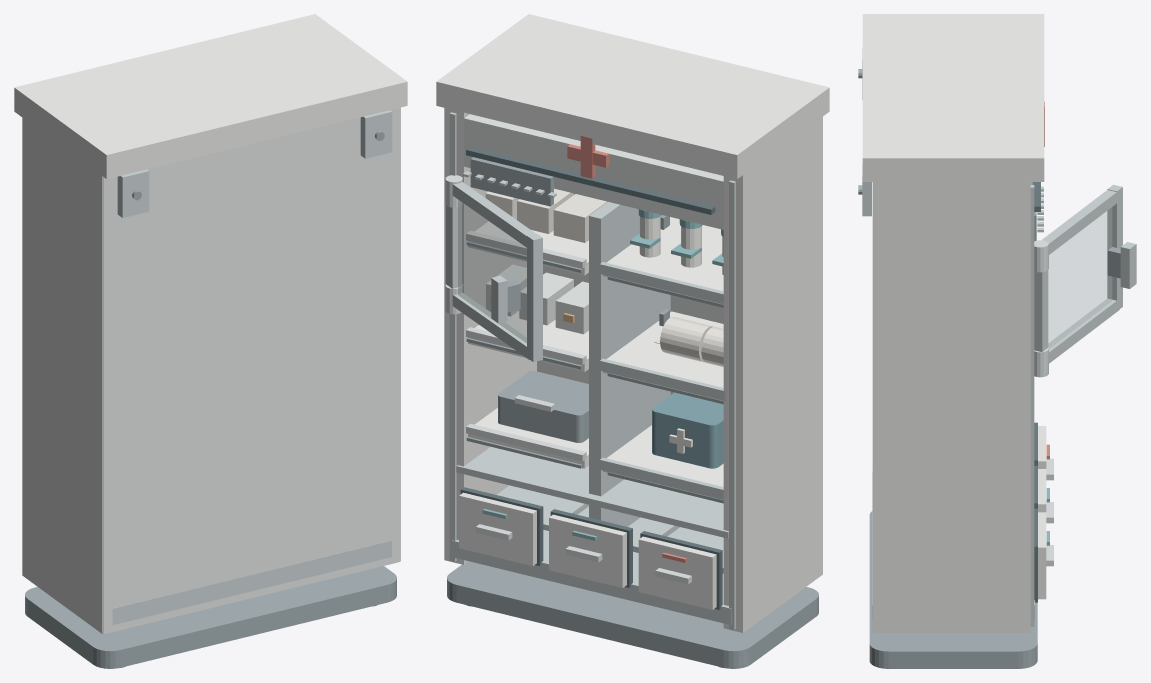
The model's file is medical_cabinet.glb.
The picture shows the model from 3 angles, left to right: view 1: azimuth 30°, elevation 25°; view 2: azimuth 150°, elevation 25°; view 3: azimuth 270°, elevation 25°; orthographic projection.
Visible parts, largest first — view 1: STATIC_cabinet_ivory, STATIC_composite_white, STATIC_mechanical_grey, STATIC_light_aluminium; view 2: STATIC_composite_white, STATIC_light_aluminium, STATIC_mechanical_grey, STATIC_ceramic_white, STATIC_cabinet_ivory, hinged_medical_door_light_aluminium, STATIC_medical_bandage, STATIC_polished_alloy, hinged_medical_door_translucent_glass, STATIC_rubber_gasket, STATIC_medical_deep, drawer_0_front (+4 smaller); view 3: STATIC_composite_white, STATIC_mechanical_grey, hinged_medical_door_light_aluminium, hinged_medical_door_translucent_glass, STATIC_light_aluminium, STATIC_polished_alloy, STATIC_rubber_gasket, STATIC_cabinet_ivory, drawer_2_front.
Part boxes in pixels (x1,y1,x2,y2): STATIC_cabinet_ivory: (103, 108, 400, 633); STATIC_composite_white: (14, 14, 407, 633); STATIC_mechanical_grey: (25, 131, 396, 668); STATIC_light_aluminium: (112, 110, 392, 624); STATIC_composite_white: (436, 14, 829, 632); STATIC_light_aluminium: (449, 112, 735, 629); STATIC_mechanical_grey: (447, 157, 818, 668); STATIC_ceramic_white: (468, 216, 723, 499); STATIC_cabinet_ivory: (464, 114, 723, 394); hinged_medical_door_light_aluminium: (446, 182, 542, 361); STATIC_medical_bandage: (485, 188, 723, 453); STATIC_polished_alloy: (445, 175, 691, 584); hinged_medical_door_translucent_glass: (458, 200, 526, 342); STATIC_rubber_gasket: (460, 147, 723, 667); STATIC_medical_deep: (652, 392, 723, 468); drawer_0_front: (638, 536, 716, 609); STATIC_composite_white: (862, 14, 1044, 632); STATIC_mechanical_grey: (858, 69, 1037, 668); hinged_medical_door_light_aluminium: (1034, 184, 1136, 363); hinged_medical_door_translucent_glass: (1048, 207, 1111, 348); STATIC_light_aluminium: (862, 47, 1043, 626); STATIC_polished_alloy: (1034, 240, 1053, 566); STATIC_rubber_gasket: (1032, 182, 1040, 602); STATIC_cabinet_ivory: (872, 182, 873, 632); drawer_2_front: (1038, 512, 1046, 599).
Bounding box in the file's own units: 1.24 × 2.06 × 1.01.
